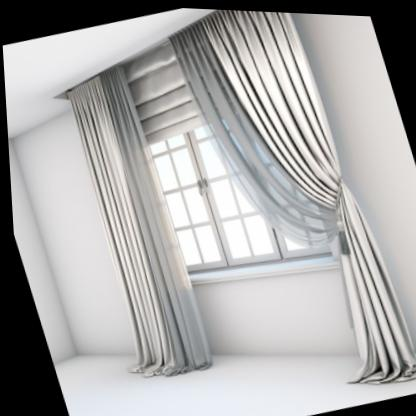Curtains: (168, 8, 416, 382), (62, 63, 209, 377)
